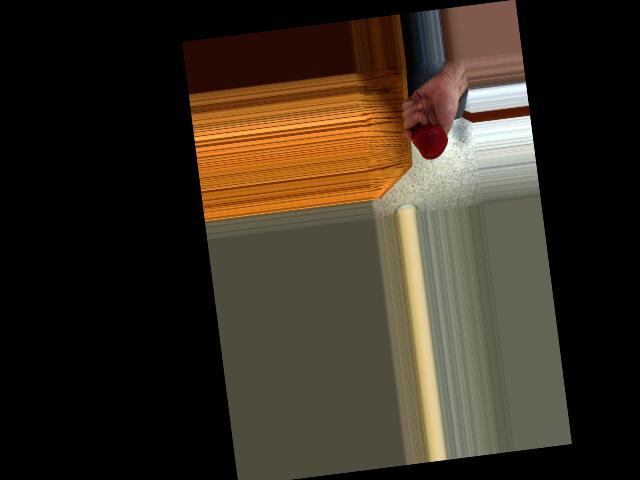apple: (410, 121, 449, 163)
